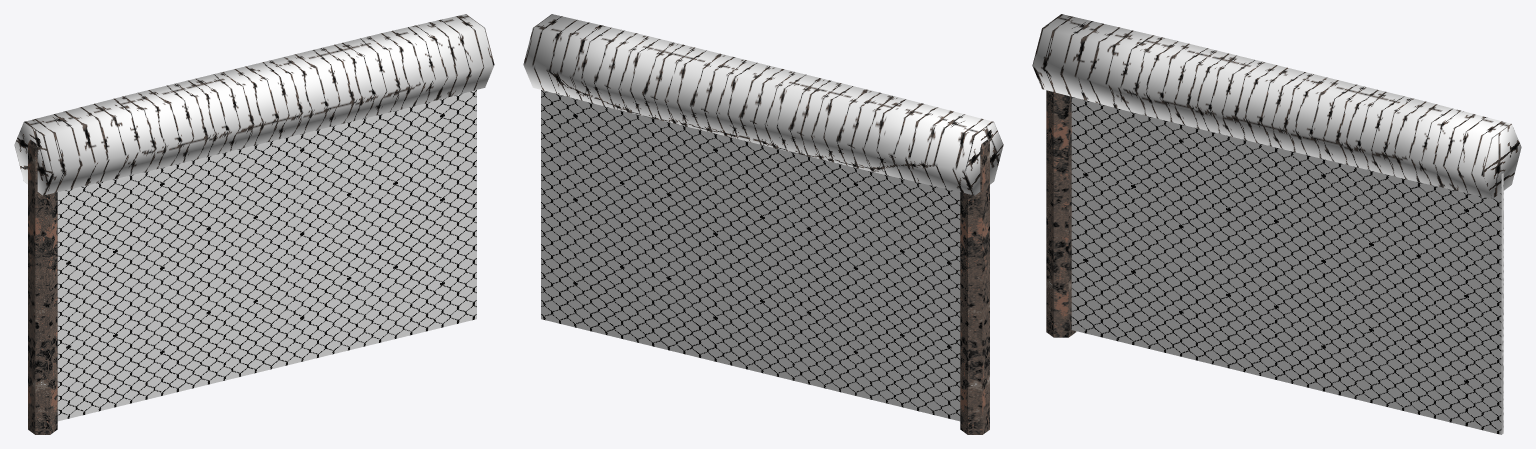
Rendered from Barbed fence.fbx.
3 views of the same model, side by side, from view 1: azimuth 30°, elevation 25°; view 2: azimuth 150°, elevation 25°; view 3: azimuth 330°, elevation 25° (orthographic).
Parts seen in each view (by area): view 1: Barbed_fence, Barbed_top, Barbed_pole; view 2: Barbed_fence, Barbed_top, Barbed_pole; view 3: Barbed_fence, Barbed_top, Barbed_pole.
Part boxes in pixels (bbox=[...]): Barbed_fence: bbox=[57, 90, 476, 421]; Barbed_top: bbox=[14, 14, 494, 195]; Barbed_pole: bbox=[28, 139, 57, 434]; Barbed_fence: bbox=[541, 90, 960, 421]; Barbed_top: bbox=[523, 14, 1003, 195]; Barbed_pole: bbox=[960, 139, 989, 434]; Barbed_fence: bbox=[1071, 97, 1503, 434]; Barbed_top: bbox=[1032, 14, 1521, 198]; Barbed_pole: bbox=[1046, 90, 1076, 337].
Size of the model in its own units: 208 by 136 by 32.01.
1 material, 1 textured.
